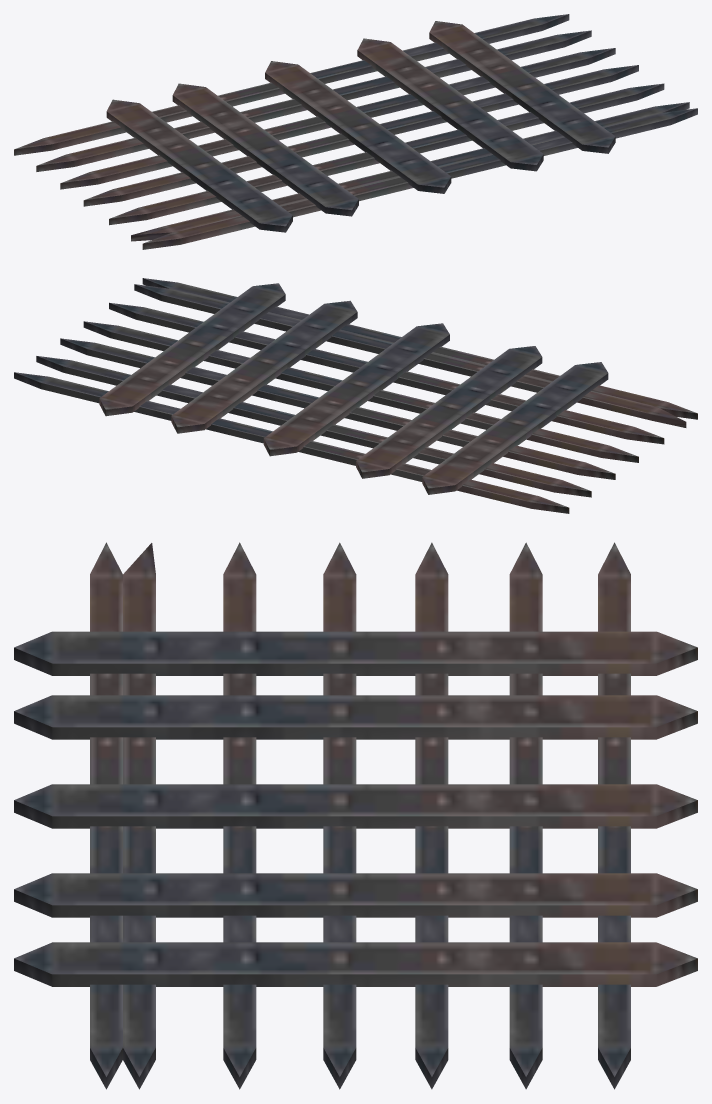
Rendered from castleGate.fbx.
3 renders of one model, top to bottom at view 1: azimuth 30°, elevation 25°; view 2: azimuth 150°, elevation 25°; view 3: azimuth 270°, elevation 25°, orthographic. The views are drawn at different scales.
Parts seen in each view (by area): view 1: castleGate; view 2: castleGate; view 3: castleGate.
Boxes of the visible parts, x1,y1,x2,y2 form: castleGate: [14, 14, 697, 249]; castleGate: [14, 278, 697, 513]; castleGate: [14, 542, 697, 1089].
Size of the model in its own units: 9.01 by 0.1779 by 4.87.
